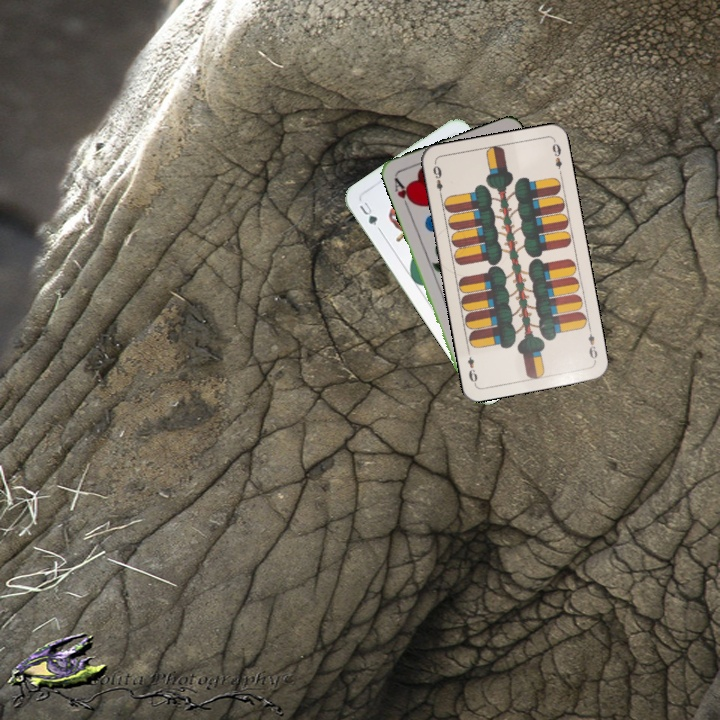E9: (584, 323, 600, 364), (429, 162, 445, 200)
GU: (355, 198, 380, 228)
HA: (390, 174, 416, 212)
